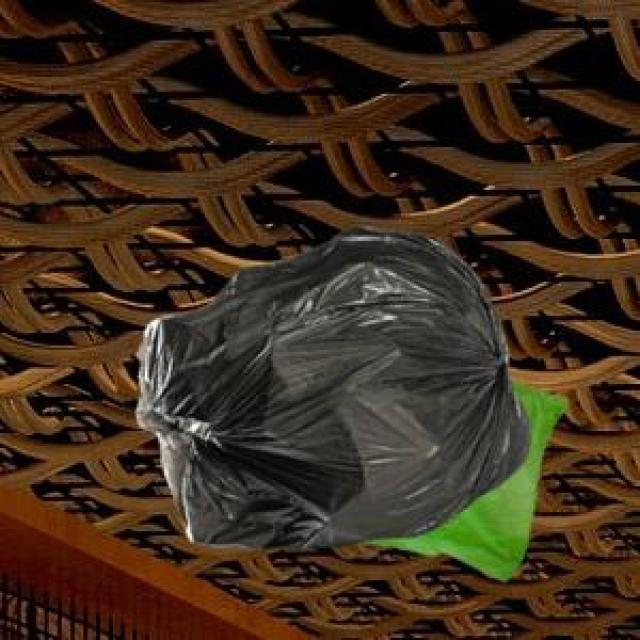miscellaneous trash: (132, 222, 527, 546)
